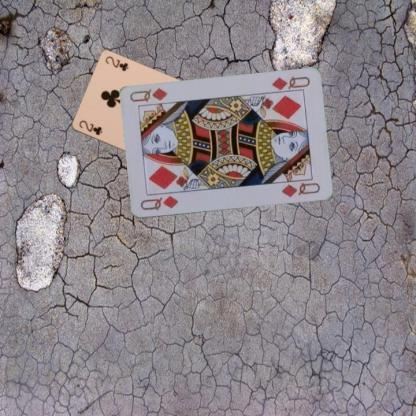2c: (76, 118, 103, 136)
Qd: (267, 74, 311, 96), (138, 193, 180, 212)
